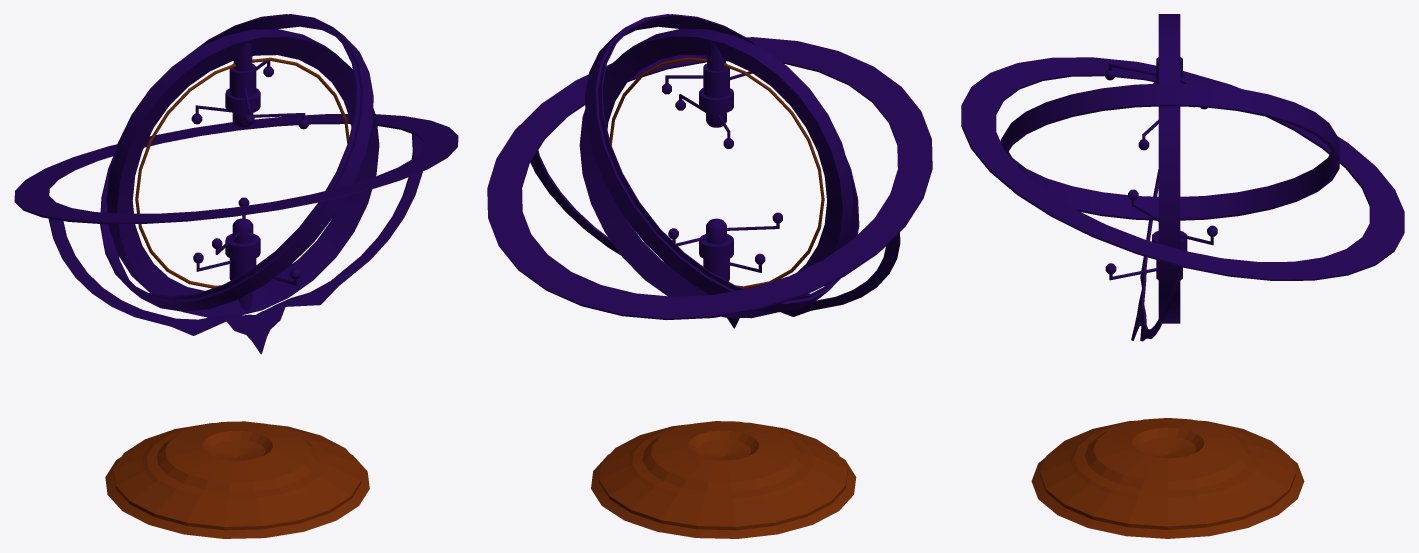
File: Astronomia.FBX
3 views of the same model, side by side, from view 1: azimuth 30°, elevation 25°; view 2: azimuth 150°, elevation 25°; view 3: azimuth 270°, elevation 25° (orthographic). The views are drawn at different scales.
Visible parts, largest first — view 1: Cylinder030, Cylinder025, Cylinder024, Cylinder026, Cylinder027, Cylinder028, Torus001, Cylinder029; view 2: Cylinder024, Cylinder030, Cylinder025, Cylinder026, Cylinder027, Cylinder028, Torus001, Cylinder029; view 3: Cylinder030, Cylinder024, Cylinder026, Cylinder025, Cylinder027.
Boxes of the visible parts, box(x1,y1,x2,y2) form: Cylinder030: box(105, 421, 369, 538); Cylinder025: box(106, 29, 379, 317); Cylinder024: box(14, 114, 458, 224); Cylinder026: box(100, 14, 373, 311); Cylinder027: box(48, 134, 423, 354); Cylinder028: box(225, 42, 260, 127); Torus001: box(135, 57, 349, 288); Cylinder029: box(225, 218, 260, 310); Cylinder024: box(487, 37, 932, 319); Cylinder030: box(591, 421, 856, 538); Cylinder025: box(579, 28, 853, 318); Cylinder026: box(584, 14, 859, 312); Cylinder027: box(530, 150, 900, 328); Cylinder028: box(699, 42, 733, 127); Torus001: box(609, 57, 824, 288); Cylinder029: box(699, 218, 733, 294); Cylinder030: box(1031, 418, 1304, 538); Cylinder024: box(961, 57, 1404, 280); Cylinder026: box(1000, 83, 1339, 220); Cylinder025: box(1158, 14, 1180, 323); Cylinder027: box(1131, 169, 1182, 341).
Bounding box in the file's own units: 528 × 575 × 507.
